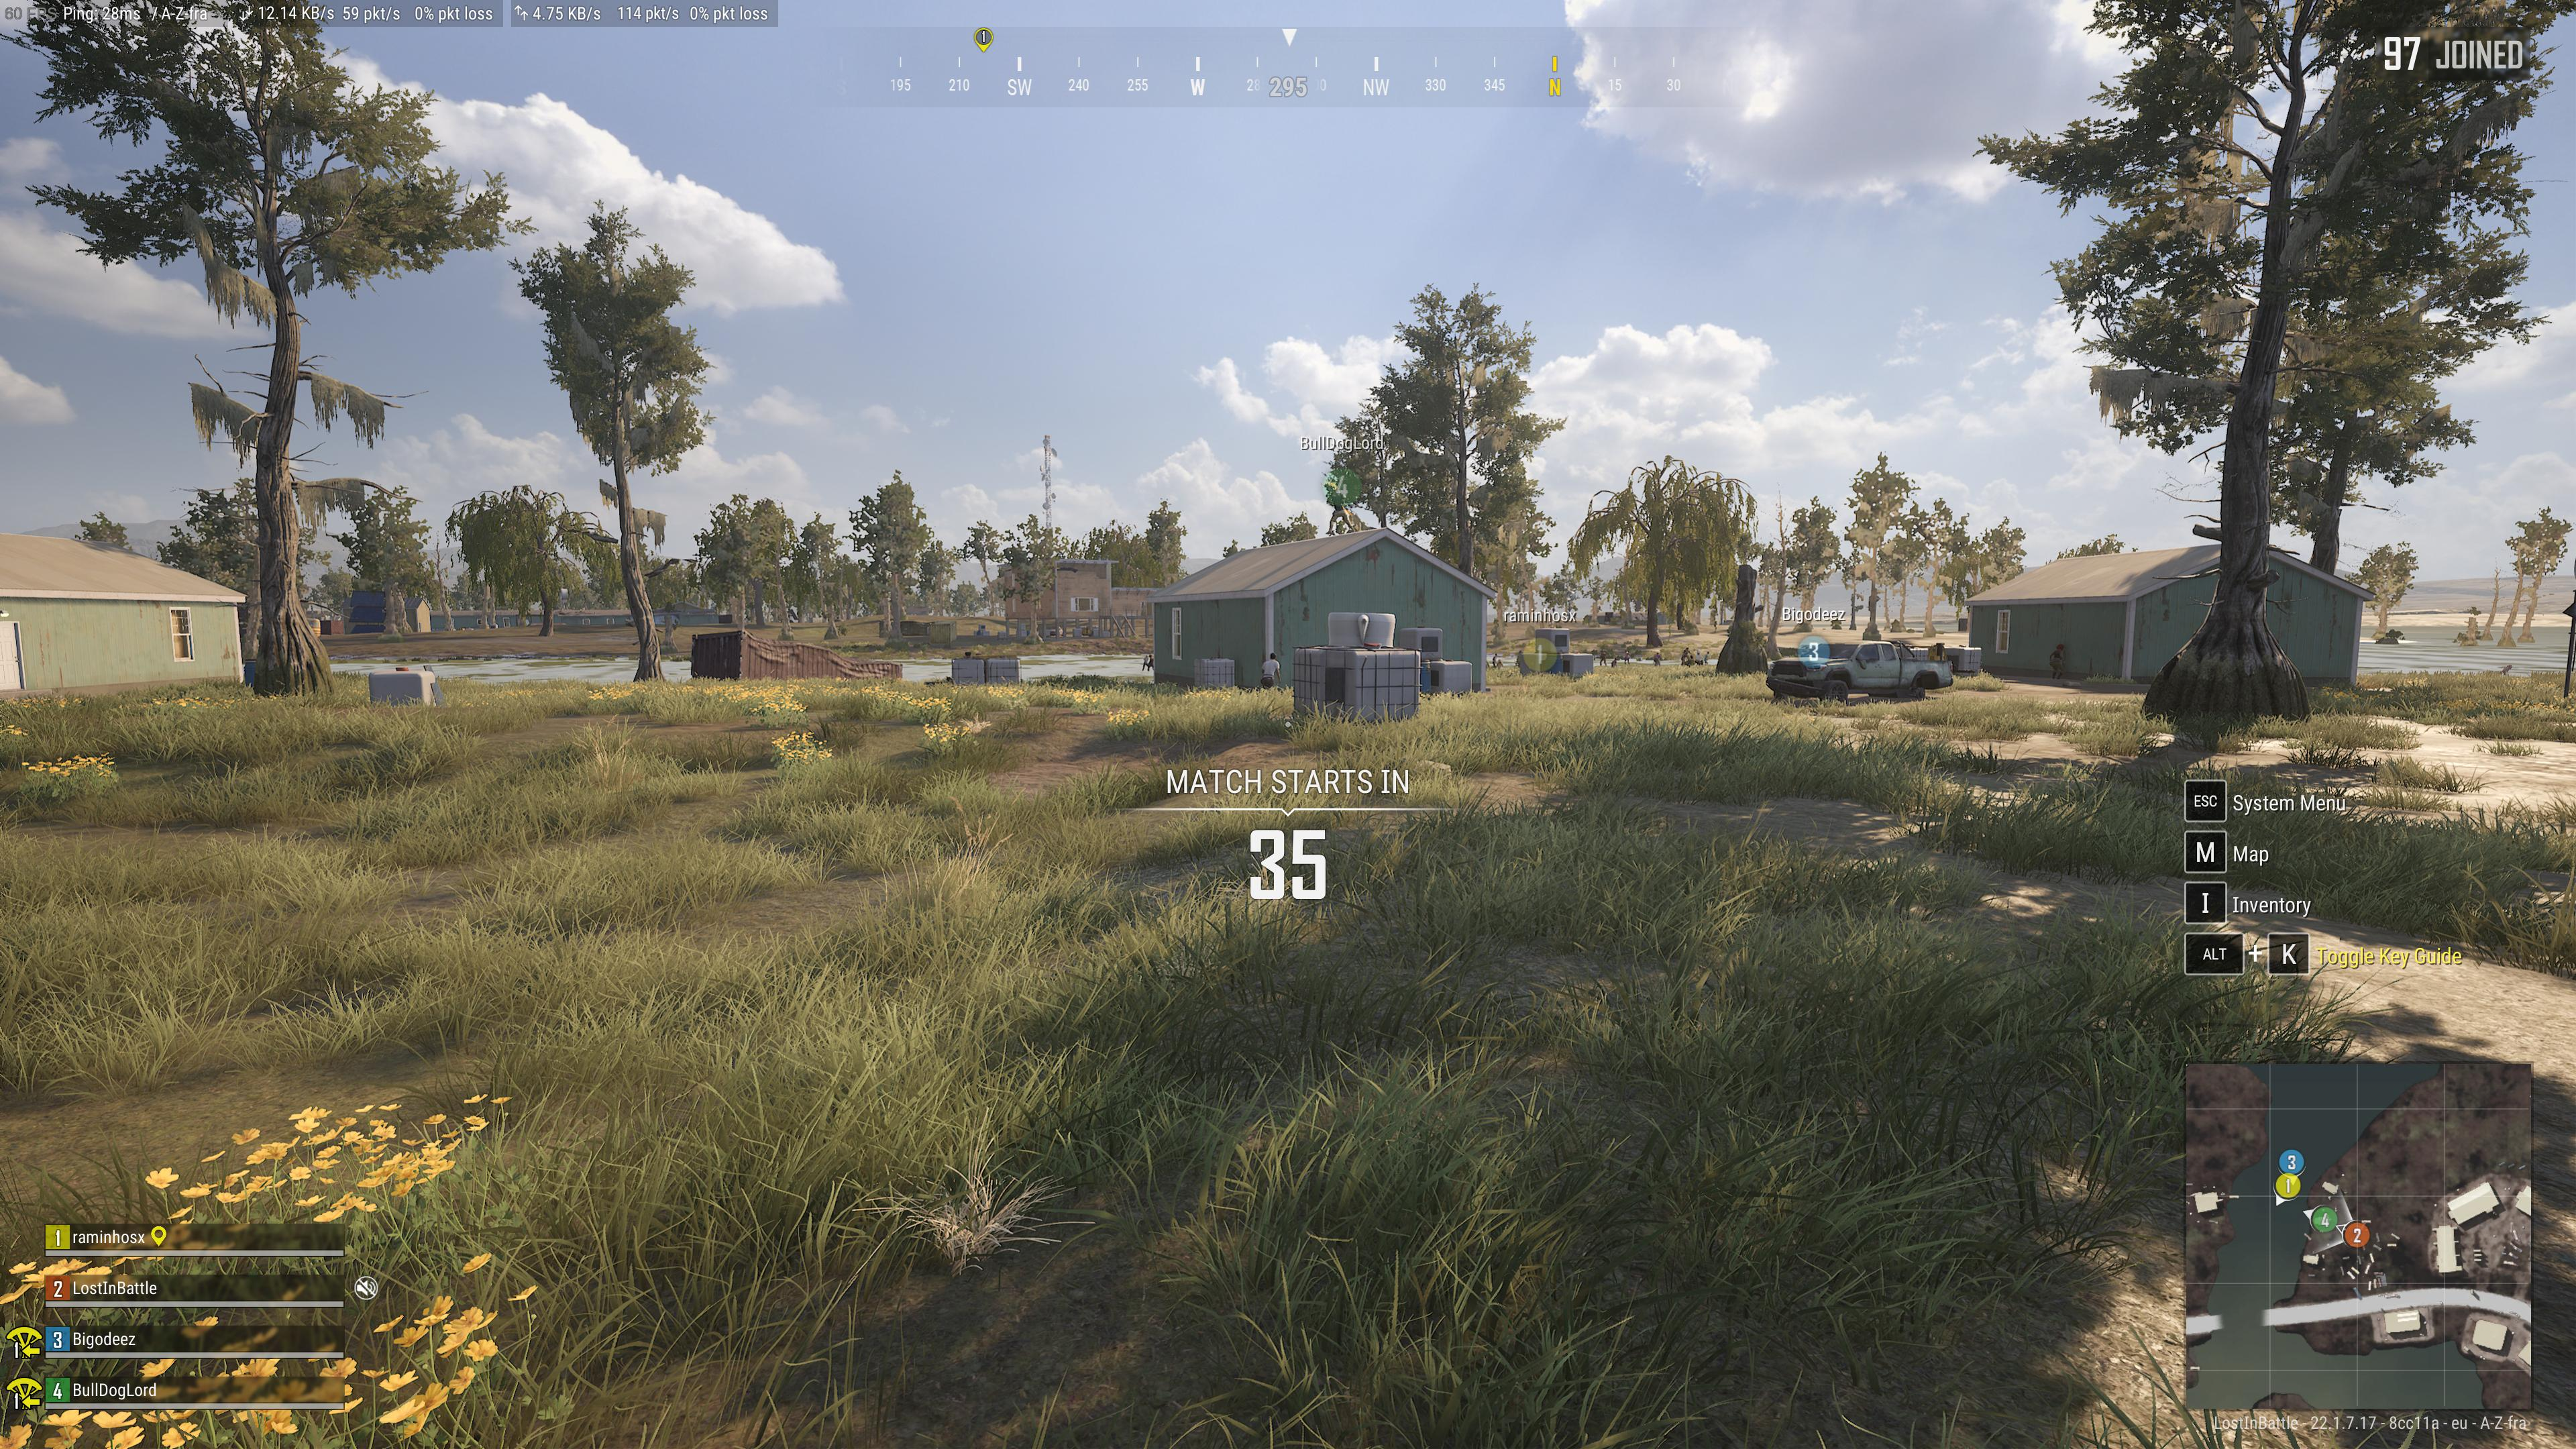enemy: (1260, 651, 1281, 688), (2047, 642, 2065, 679), (1141, 651, 1154, 672), (1681, 648, 1690, 665), (1652, 651, 1663, 665), (1599, 649, 1606, 665), (1695, 649, 1702, 663), (1610, 656, 1619, 667), (1491, 653, 1497, 667), (1624, 649, 1629, 663), (1704, 651, 1709, 663), (1497, 658, 1502, 667)
enemy_head: (2056, 642, 2065, 653), (1269, 651, 1277, 660)
friendly: (1325, 487, 1355, 533)
